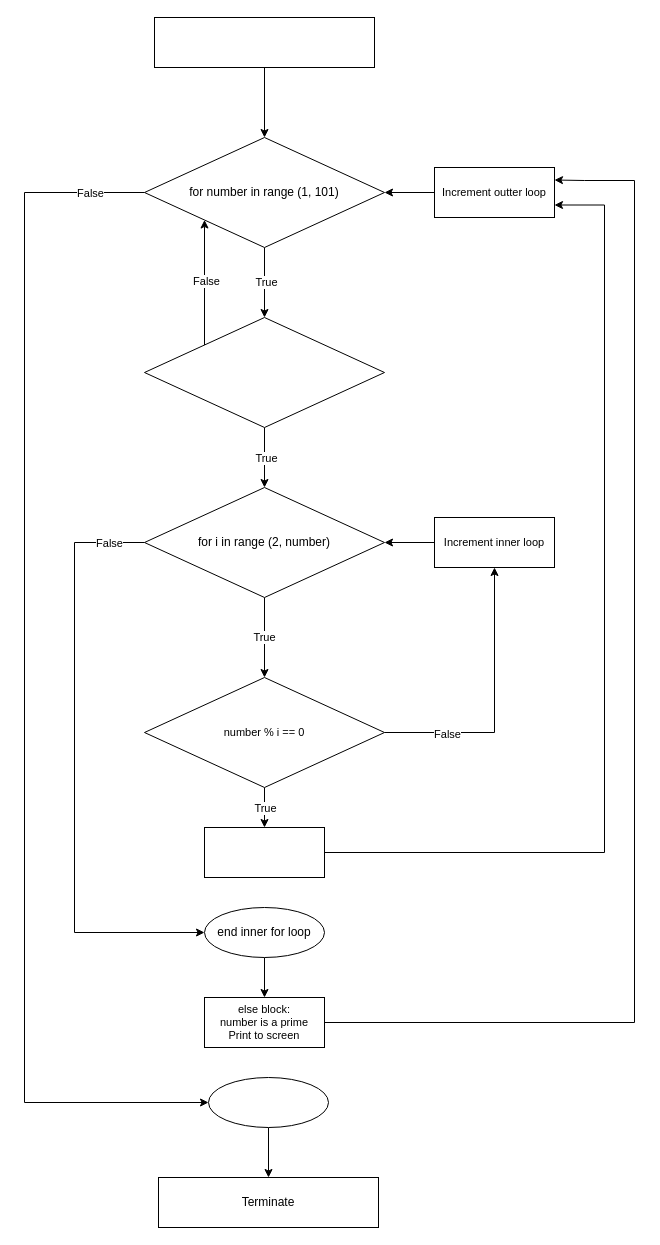
Image size: 660x1245. Some labels were removed from this diagram. Here are the shapes that lost their labels. From the top down, the box of each, then its label:
(154, 16, 374, 68): Initialisation
(144, 316, 384, 428): If number > than 1?
(204, 826, 324, 878): break
(208, 1076, 328, 1128): end outter for loop
